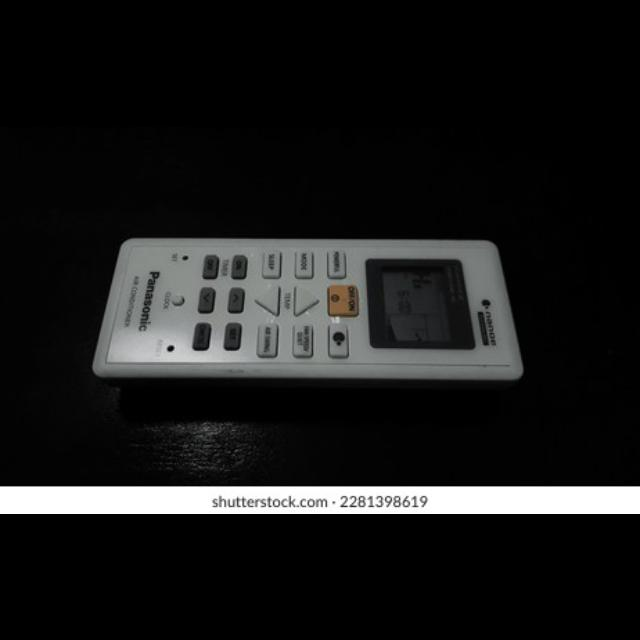TV-Remote-Control: (91, 238, 522, 381)
